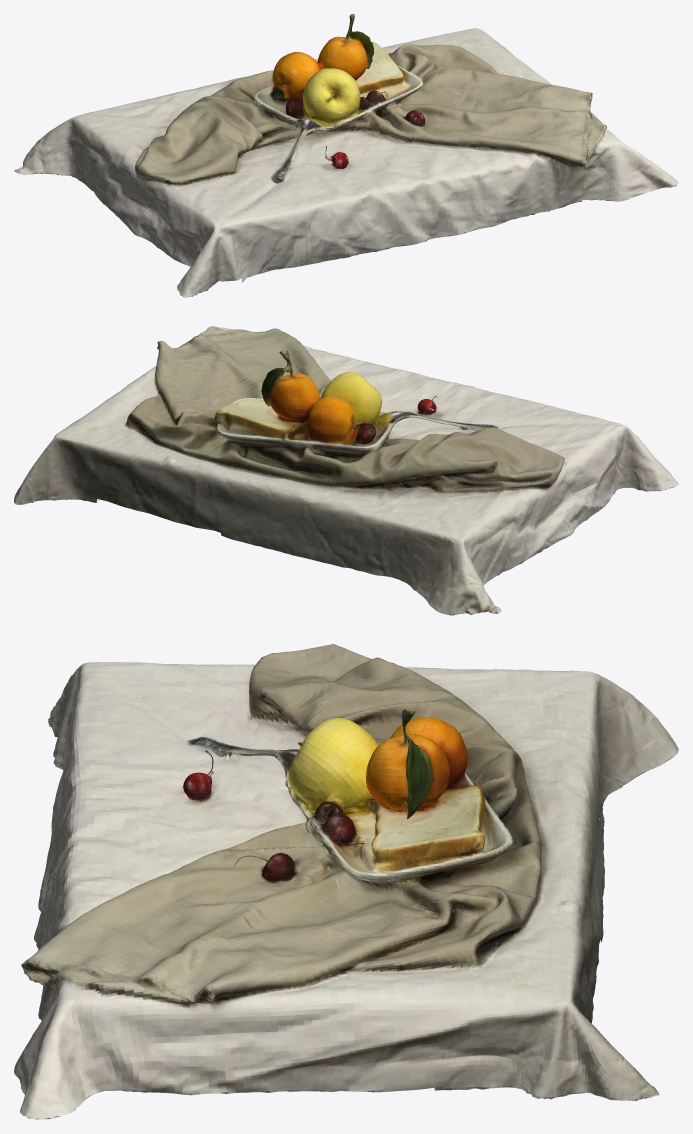
The model's file is 静物_水果_水果面包组合01_opt.glb.
3 renders of one model, top to bottom at view 1: azimuth 30°, elevation 25°; view 2: azimuth 150°, elevation 25°; view 3: azimuth 270°, elevation 25°, orthographic. The views are drawn at different scales.
Parts seen in each view (by area): view 1: surfaceShader1SG_2, surfaceShader1SG, surfaceShader1SG_4; view 2: surfaceShader1SG_2, surfaceShader1SG, surfaceShader1SG_4; view 3: surfaceShader1SG_4, surfaceShader1SG, surfaceShader1SG_2.
Boxes of the visible parts, x1,y1,x2,y2 form: surfaceShader1SG_2: (18,31,483,297); surfaceShader1SG: (14,14,671,297); surfaceShader1SG_4: (17,17,678,296); surfaceShader1SG_2: (15,372,678,611); surfaceShader1SG: (14,327,642,615); surfaceShader1SG_4: (14,326,677,613); surfaceShader1SG_4: (14,669,654,1119); surfaceShader1SG: (21,658,678,1117); surfaceShader1SG_2: (36,644,652,1099).
Bounding box in the file's own units: 2.21 × 0.6 × 1.54.
Materials: 1 (1 with a texture image).
